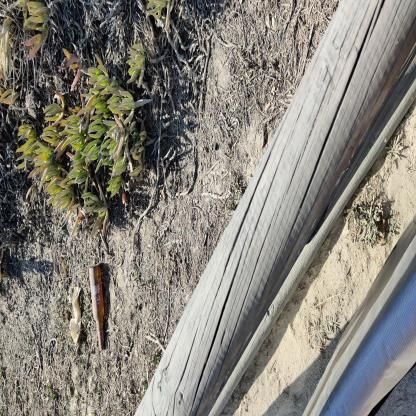cam: (90, 264, 106, 352)
